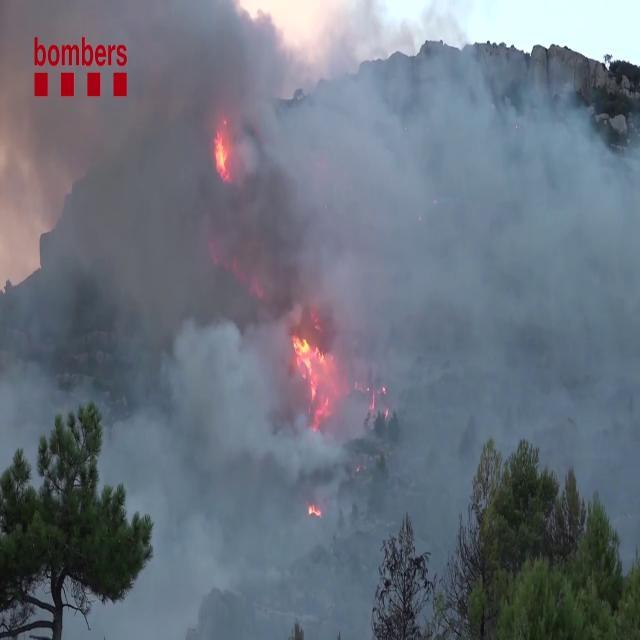Fire: (288, 318, 338, 420)
Smoke: (21, 0, 638, 499)
